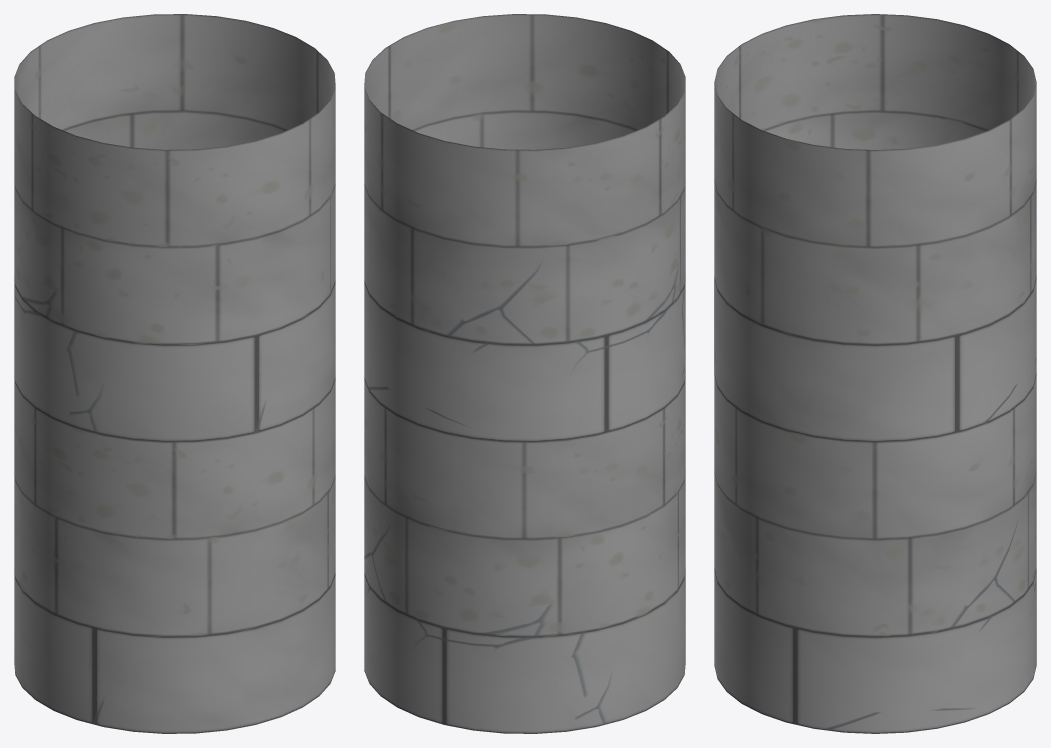
The model's file is Trim_Stone_SmallColonne01.fbx.
The picture shows the model from 3 angles, left to right: view 1: azimuth 30°, elevation 25°; view 2: azimuth 150°, elevation 25°; view 3: azimuth 270°, elevation 25°; orthographic projection.
Parts seen in each view (by area): view 1: Trim_Stone_SmallColonne01; view 2: Trim_Stone_SmallColonne01; view 3: Trim_Stone_SmallColonne01.
Part boxes in pixels (x1,y1,x2,y2): Trim_Stone_SmallColonne01: (14,14,335,733); Trim_Stone_SmallColonne01: (364,14,685,733); Trim_Stone_SmallColonne01: (714,14,1036,733).
Size of the model in its own units: 200 by 400 by 200.
